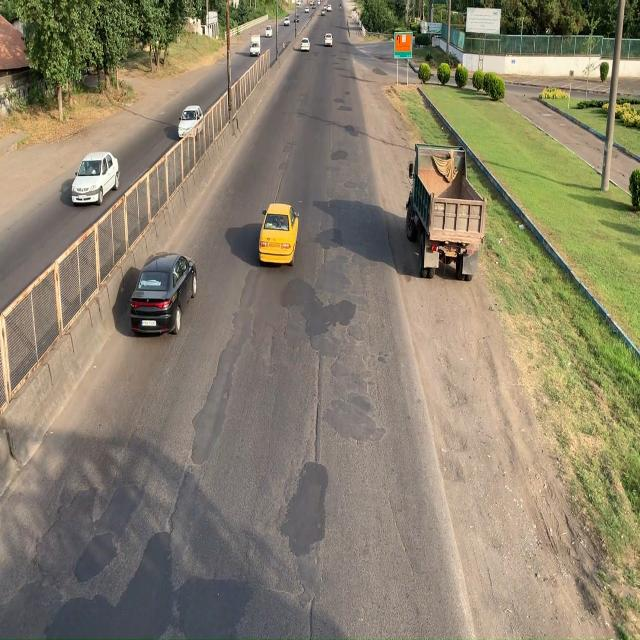Truck: (404, 142, 488, 280)
cars: (131, 253, 197, 334), (258, 202, 299, 264), (72, 153, 119, 203)
